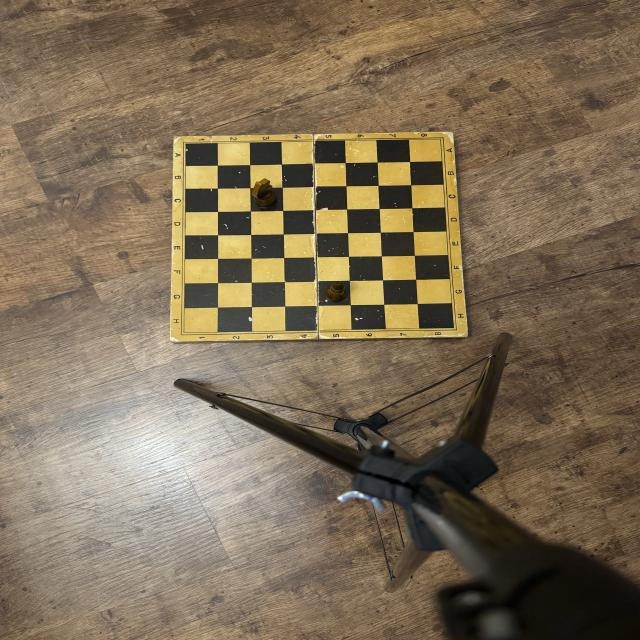black-bishop: (323, 280, 347, 302)
black-knight: (252, 178, 278, 207)
